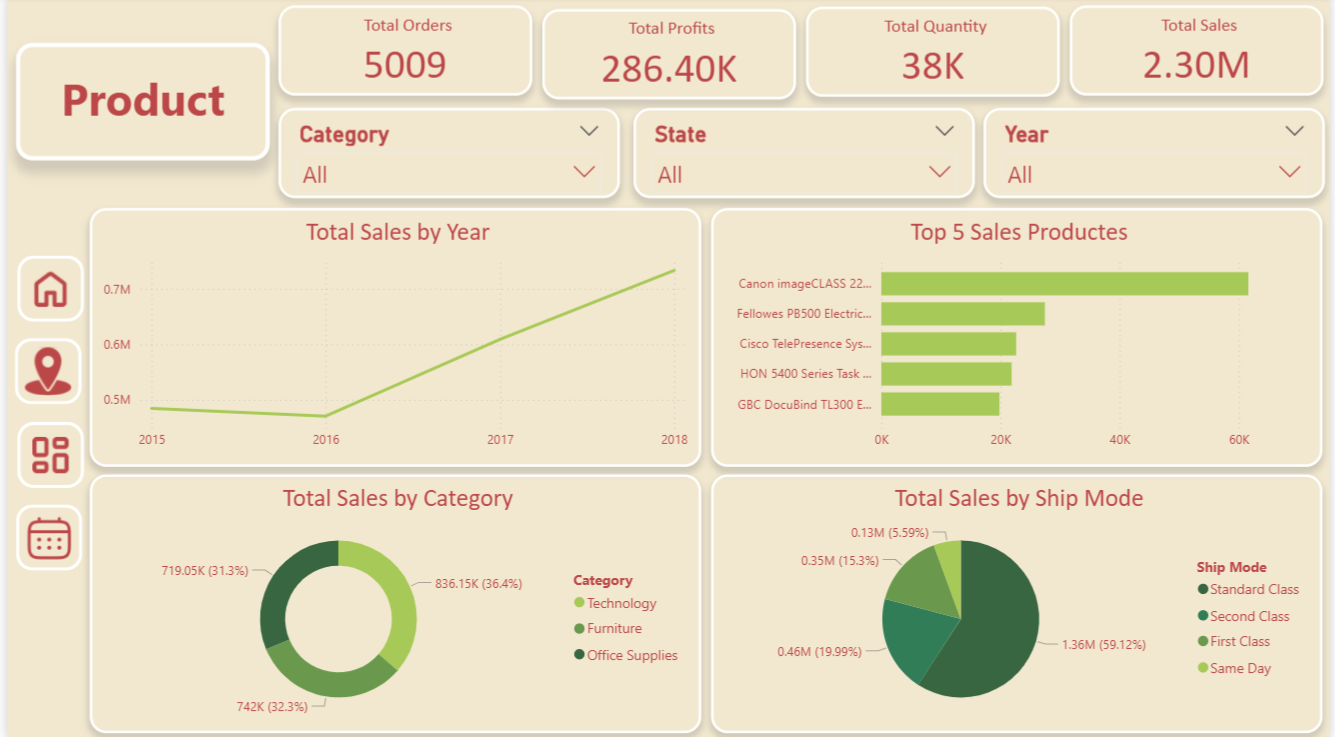

Layout of this report page (visuals, bound fields, positions):
{"tool":"powerbi","page":{"name":"Product","canvas":[1280,720],"ordinal":1},"visuals":[{"type":"actionButton","box":[8.7,491.4,64,64],"z":0},{"type":"actionButton","box":[9.1,250.8,64.5,64],"z":1000},{"type":"actionButton","box":[7.7,331,64.5,64],"z":2000},{"type":"actionButton","box":[9.1,411.2,64.5,64],"z":3000},{"type":"textbox","box":[8.5,44.8,245.7,113.8],"z":4000},{"type":"card","title":"Total Orders","fields":{"Values":["Daxmeasures.T_orders"]},"box":[262.7,8.5,245.7,87.2],"z":5000},{"type":"slicer","title":"Total Quantity","fields":{"Values":["ProductDim.Category"]},"box":[262.7,107.7,330,87.2],"z":6000},{"type":"card","title":"Total Profits","fields":{"Values":["Daxmeasures.T_profit"]},"box":[518.1,11.7,245.7,87.2],"z":7000},{"type":"card","title":"Total Quantity","fields":{"Values":["Daxmeasures.T_quantity"]},"box":[773.5,10.1,245.7,87.2],"z":8000},{"type":"card","title":"Total Sales","fields":{"Values":["Daxmeasures.T_sales"]},"box":[1028.9,8.5,245.7,87.2],"z":9000},{"type":"slicer","title":"Total Quantity","fields":{"Values":["CustomerDim.State"]},"box":[605.9,107.7,330.5,87.2],"z":10000},{"type":"slicer","title":"Total Quantity","fields":{"Values":["Sales.Ship Date.Variation.Date Hierarchy.Year"]},"box":[945.4,107.7,330.5,87.2],"z":11000},{"type":"lineChart","fields":{"Category":["DateDim.Order Date.Variation.Date Hierarchy.Year","DateDim.Order Date.Variation.Date Hierarchy.Quarter","DateDim.Order Date.Variation.Date Hierarchy.Month"],"Y":["Daxmeasures.T_sales"]},"box":[80,204.6,592,250.6],"z":12000},{"type":"barChart","title":"Top 5 Sales Productes","fields":{"Category":["ProductDim.Product Name"],"Y":["Daxmeasures.Total Sales"]},"box":[681.5,204.6,591.9,250.6],"z":13000},{"type":"donutChart","fields":{"Y":["Daxmeasures.T_sales"],"Category":["ProductDim.Category"]},"box":[79.9,462.4,591.9,250.6],"z":14000},{"type":"pieChart","fields":{"Category":["Sales.Ship Mode"],"Y":["Daxmeasures.Total Sales"]},"box":[681.5,462.4,591.9,250.6],"z":15000}]}

Visuals, with their boxes in screenshot pixels (x1, y1, x2, y2), scaled from the page's 1280x720 canvas onto the 1335x737 screenshot:
actionButton: region(9, 503, 76, 569)
actionButton: region(9, 257, 77, 322)
actionButton: region(8, 339, 75, 404)
actionButton: region(9, 421, 77, 486)
textbox: region(9, 46, 265, 162)
"Total Orders" card: region(274, 9, 530, 98)
"Total Quantity" slicer: region(274, 110, 618, 200)
"Total Profits" card: region(540, 12, 797, 101)
"Total Quantity" card: region(807, 10, 1063, 100)
"Total Sales" card: region(1073, 9, 1329, 98)
"Total Quantity" slicer: region(632, 110, 977, 200)
"Total Quantity" slicer: region(986, 110, 1331, 200)
lineChart - DateDim.Order Date.Variation.Date Hierarchy.Year x DateDim.Order Date.Variation.Date Hierarchy.Quarter: region(83, 209, 701, 466)
"Top 5 Sales Productes" barChart: region(711, 209, 1328, 466)
donutChart - Daxmeasures.T_sales x ProductDim.Category: region(83, 473, 701, 730)
pieChart - Sales.Ship Mode x Daxmeasures.Total Sales: region(711, 473, 1328, 730)
